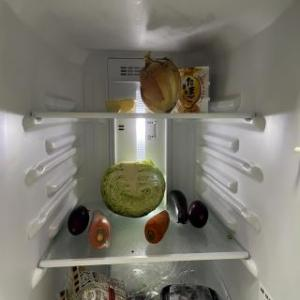cabbage: (101, 160, 163, 220)
carrot: (88, 208, 114, 248), (146, 212, 168, 244)
eggplant: (70, 204, 90, 238), (188, 200, 210, 230), (170, 189, 188, 223)
onion: (140, 54, 180, 114)
